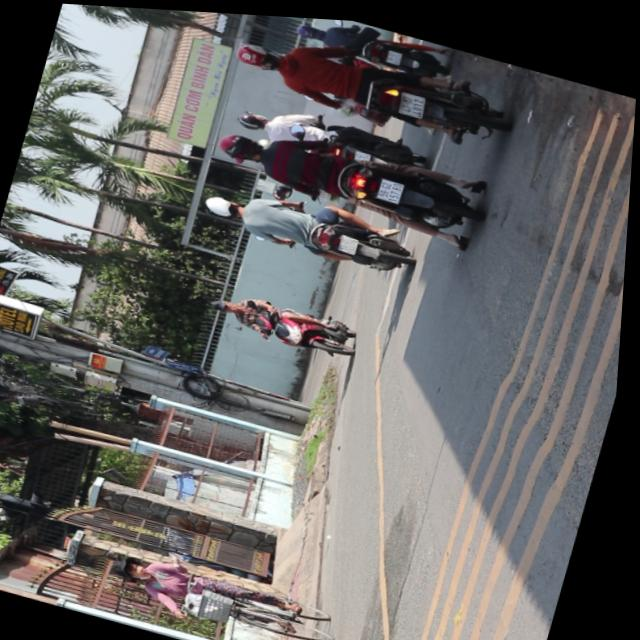helmet: (214, 127, 266, 163), (231, 37, 283, 73), (203, 190, 246, 219)
licenseplate: (204, 107, 495, 246), (223, 16, 517, 152), (195, 171, 425, 280)
nohelmet: (397, 87, 426, 113), (377, 173, 404, 198), (338, 230, 360, 250)
